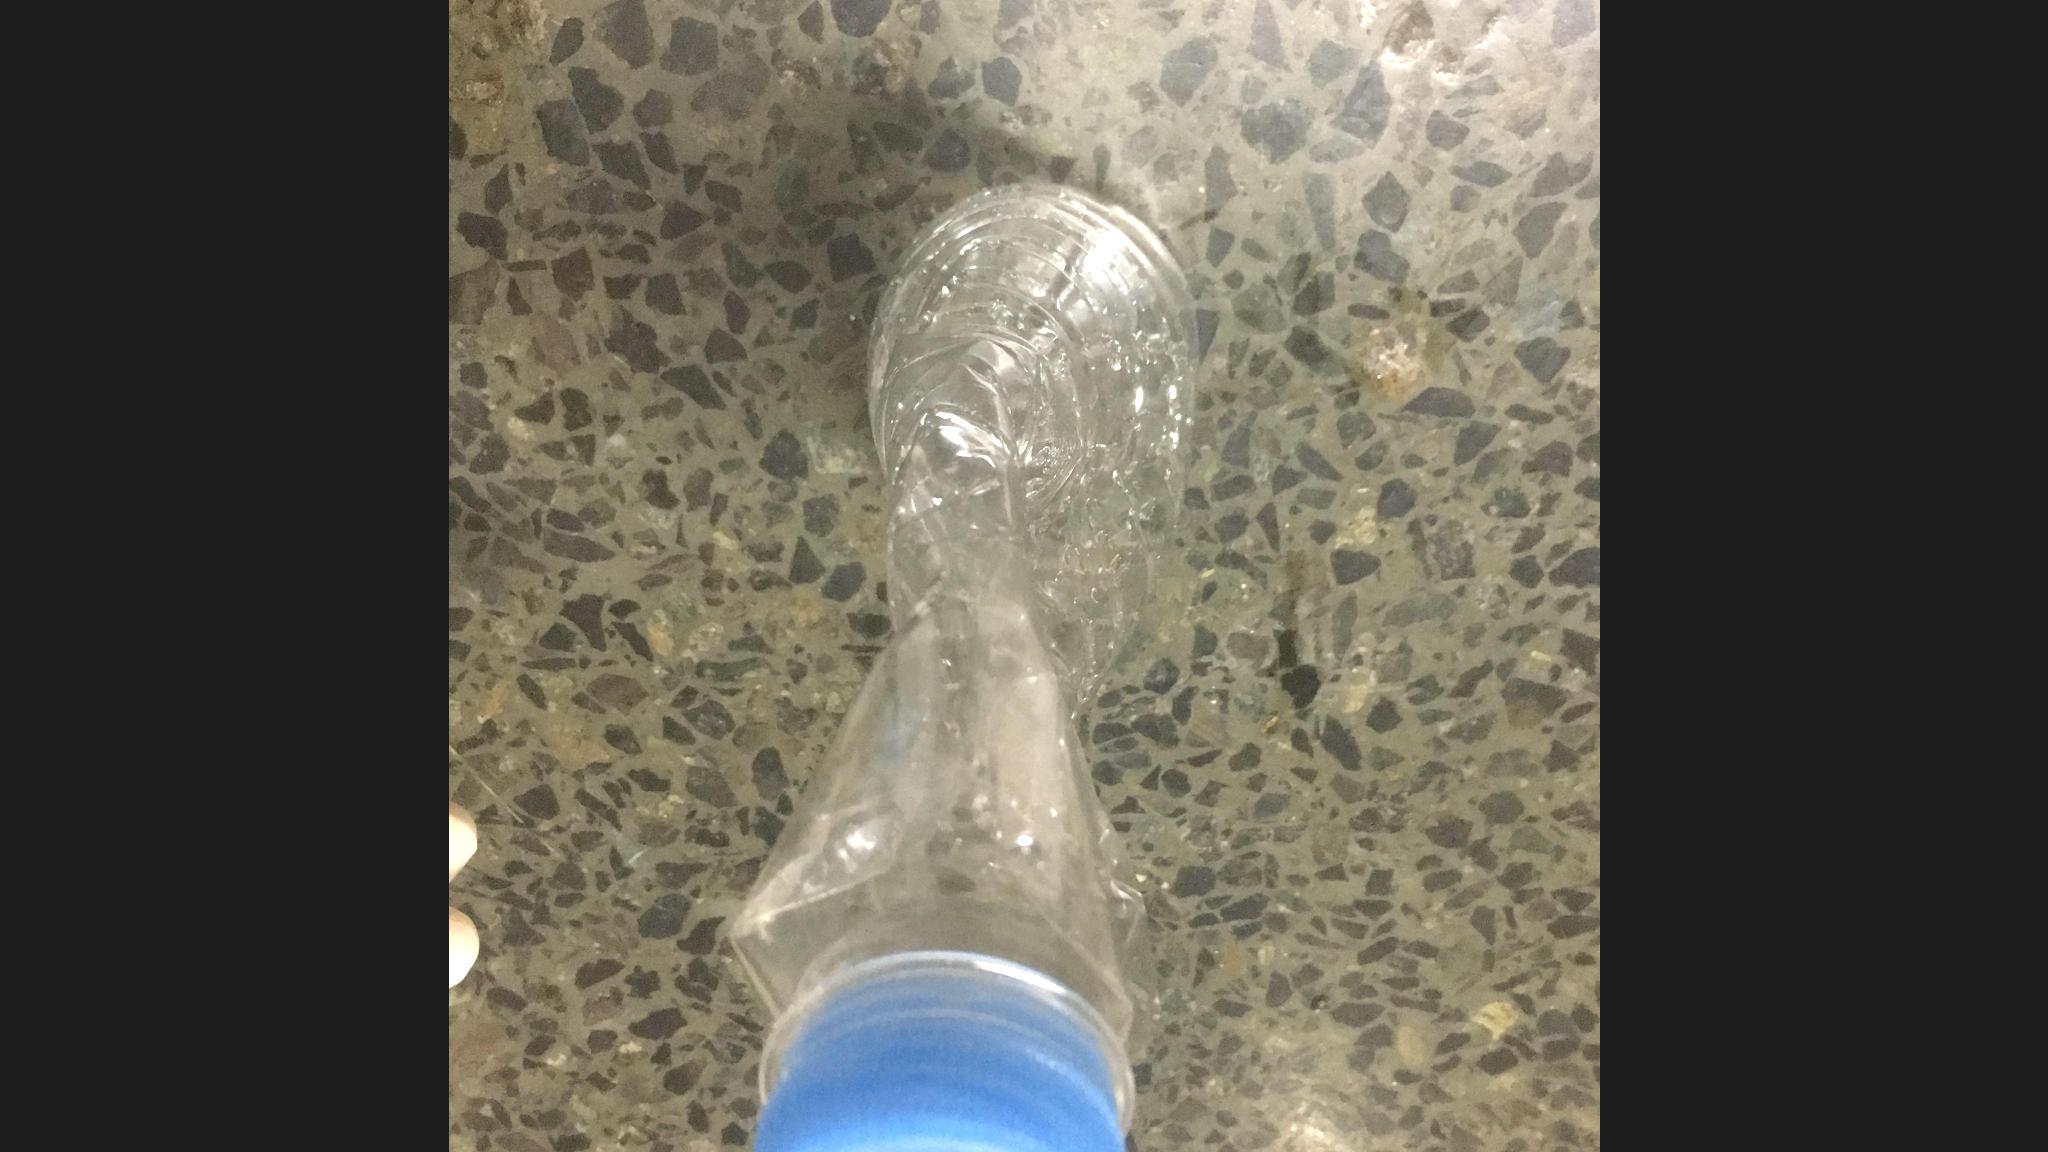bottle: (717, 188, 1212, 1152)
